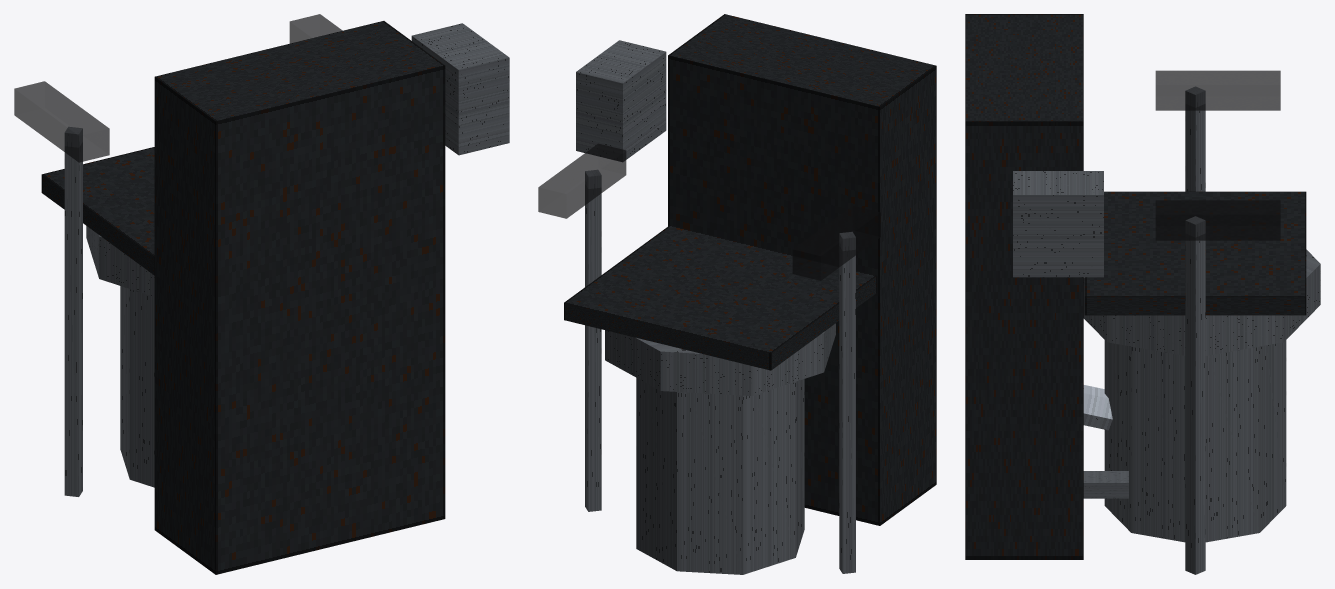
Rendered from space_toilet_industrial_hazard.glb.
The picture shows the model from 3 angles, left to right: view 1: azimuth 30°, elevation 25°; view 2: azimuth 150°, elevation 25°; view 3: azimuth 270°, elevation 25°; orthographic projection. The views are drawn at different scales.
Visible parts, largest first — view 1: space_toilet_industrial_hazard; view 2: space_toilet_industrial_hazard; view 3: space_toilet_industrial_hazard.
Boxes of the visible parts, x1,y1,x2,y2 form: space_toilet_industrial_hazard: (14,14,509,574); space_toilet_industrial_hazard: (538,14,936,574); space_toilet_industrial_hazard: (965,14,1320,574).
Size of the model in its own units: 0.7 by 0.85 by 0.625.
Materials: 5 (5 with a texture image).
